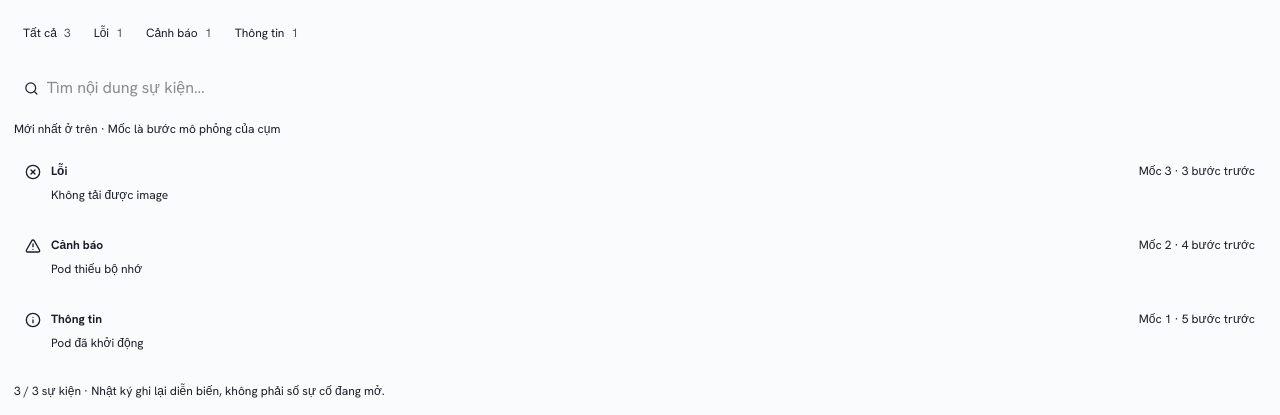
learner event history › shows newest first and combines severity with text search
Expected: the list item "Lỗi Mốc 3 · 3 bước trước Không tải được image" is shown, [14,151,1266,217]
Click the button "Cảnh báo 1" at (179, 34), box [137,12,221,56]
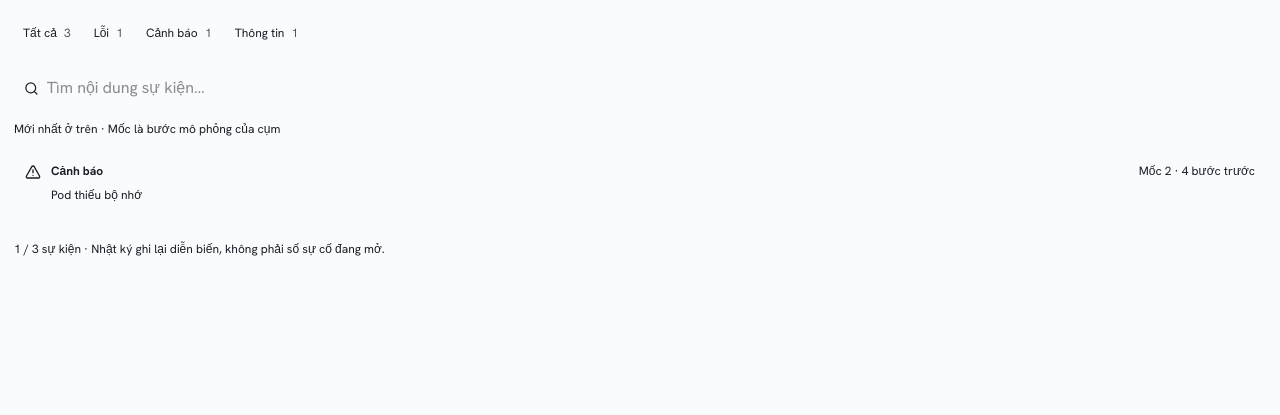
Expected: the list named "Sự kiện của tài nguyên" shows "Pod thiếu bộ nhớ", [51,187,142,203]
Result: the number of list items is 1 at [14,151,1266,217]
Type "image" into the field at (651, 88), box [47,75,1256,101]
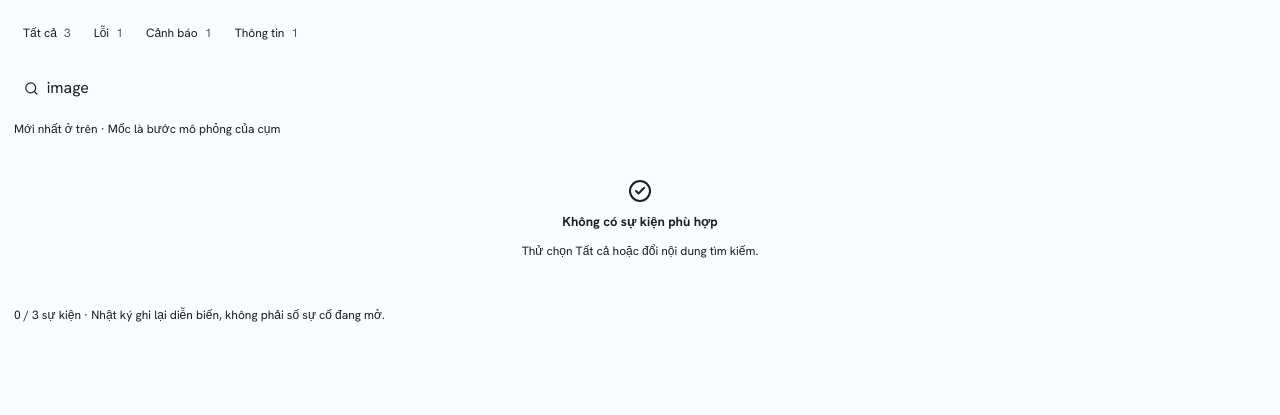
Result: the list named "Sự kiện của tài nguyên" shows "Không có sự kiện phù hợp" at [562,213,718,230]
Click the button "Tất cả 3" at (47, 34), box [14,12,80,56]
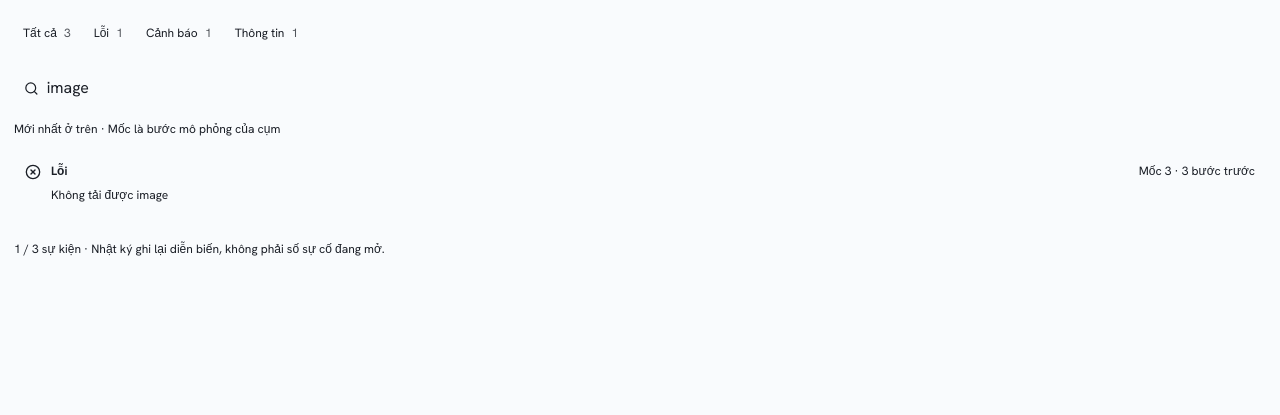
Expected: the text "Sự kiện của tài nguyên" does not show "Pod đã khởi động"
Result: the list named "Sự kiện của tài nguyên" shows "Không tải được image" at [51,187,168,203]
